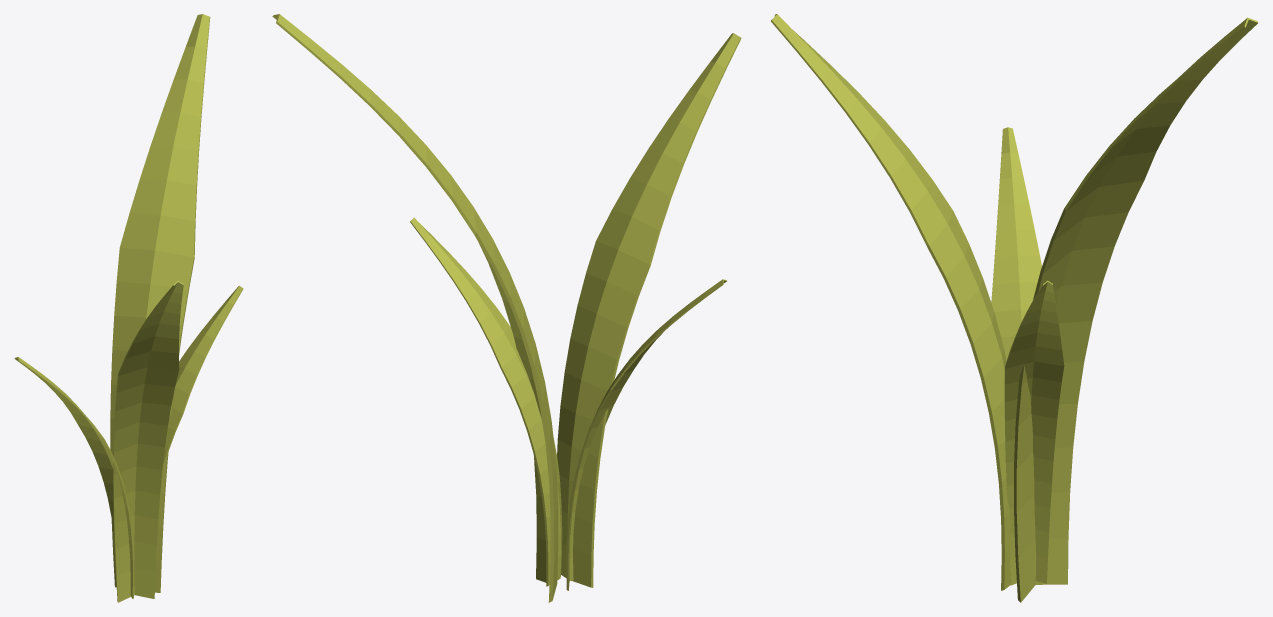
The model's file is grass_04.fbx.
3 views of the same model, side by side, from view 1: azimuth 30°, elevation 25°; view 2: azimuth 150°, elevation 25°; view 3: azimuth 270°, elevation 25° (orthographic). The views are drawn at different scales.
Visible parts, largest first — view 1: Cube.013; view 2: Cube.013; view 3: Cube.013.
Boxes of the visible parts, bbox=[...] form: Cube.013: bbox=[14, 14, 243, 602]; Cube.013: bbox=[272, 14, 741, 602]; Cube.013: bbox=[771, 14, 1258, 602].
Bounding box in the file's own units: 61.06 × 101 × 67.03.
